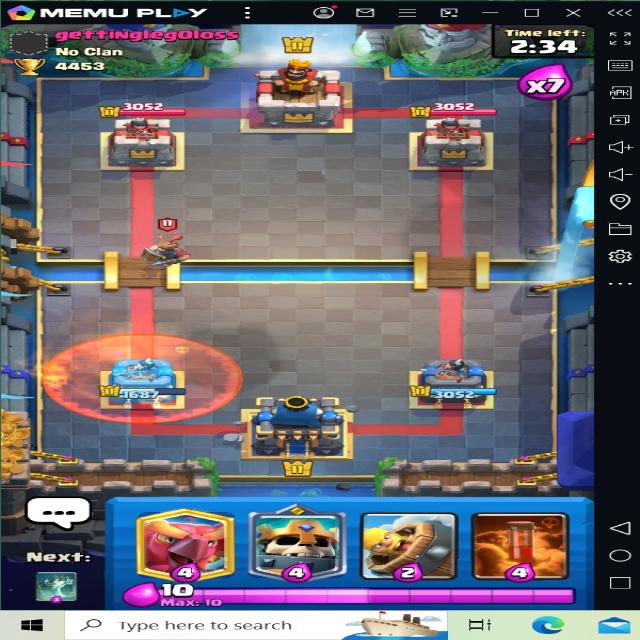Poison: (44, 328, 243, 424)
Royalrecruits: (137, 219, 191, 273)
